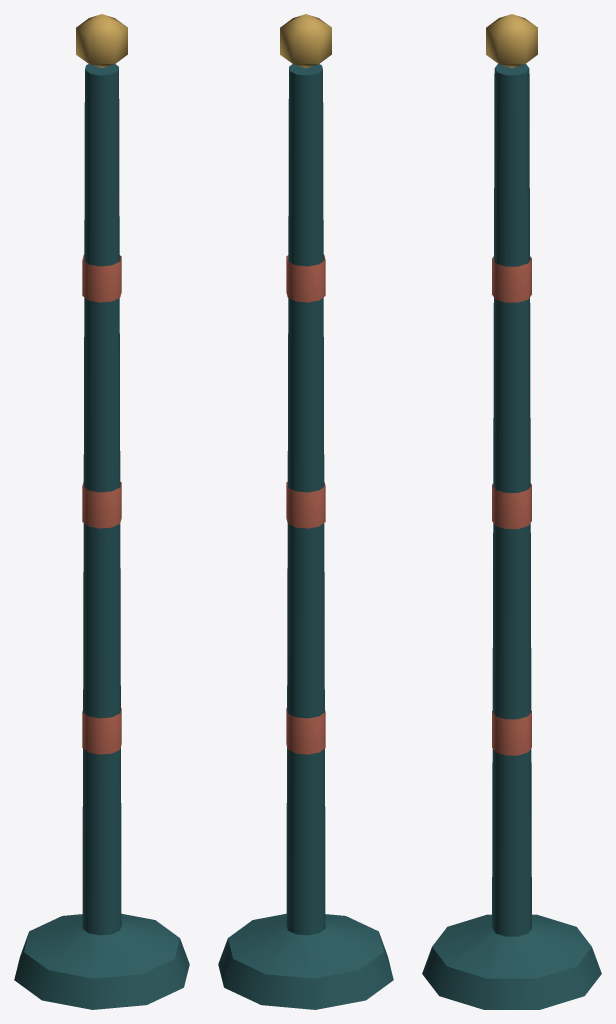
The model's file is CheckpointPoleMIA.fbx.
3 renders of one model, left to right at view 1: azimuth 30°, elevation 25°; view 2: azimuth 150°, elevation 25°; view 3: azimuth 270°, elevation 25°, orthographic.
Visible parts, largest first — view 1: CheckpointPoleMIA; view 2: CheckpointPoleMIA; view 3: CheckpointPoleMIA.
Boxes of the visible parts, left/top/right/bottom form: CheckpointPoleMIA: left=14, top=14, right=189, bottom=1009; CheckpointPoleMIA: left=218, top=14, right=393, bottom=1009; CheckpointPoleMIA: left=422, top=14, right=601, bottom=1009.
Size of the model in its own units: 0.3424 by 2.12 by 0.36.
